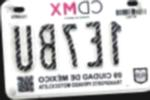License_Plate: (3, 0, 150, 98)
